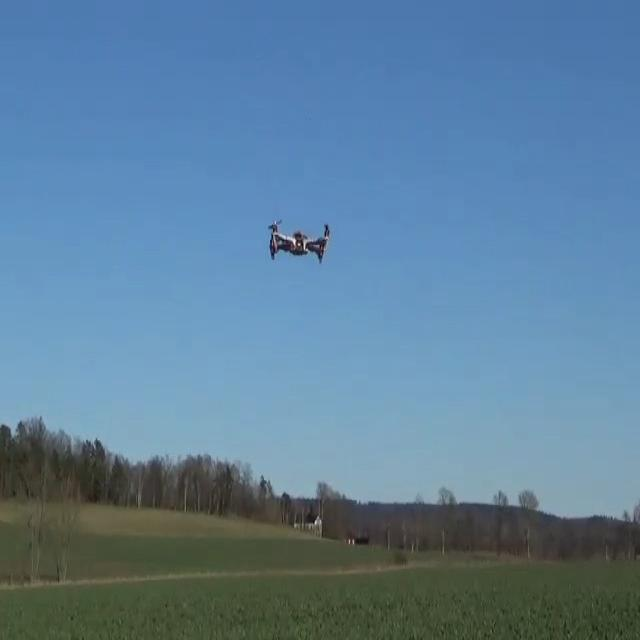drone: (269, 216, 333, 266)
